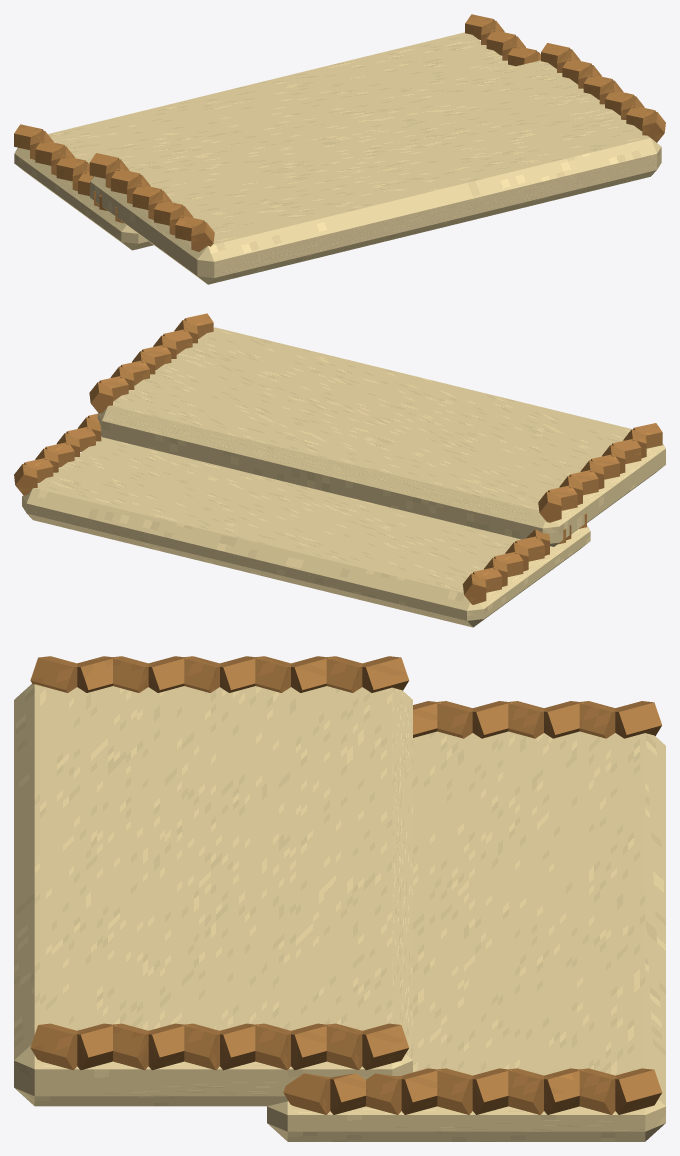
The model's file is lasagne_raw.glb.
3 renders of one model, top to bottom at view 1: azimuth 30°, elevation 25°; view 2: azimuth 150°, elevation 25°; view 3: azimuth 270°, elevation 25°, orthographic. The views are drawn at different scales.
Parts seen in each view (by area): view 1: block_flat pastry or pasta sheet (×2), block_crimped pasta border 0 (×4), block_crimped pasta border 2 (×4), block_crimped pasta border 4 (×3), block_crimped pasta border 9 (×2), block_crimped pasta border 8 (×2), block_crimped pasta border 6 (×2); view 2: block_flat pastry or pasta sheet (×2), block_crimped pasta border 0 (×4); view 3: block_flat pastry or pasta sheet (×2), block_crimped pasta border 0 (×4), block_crimped pasta border 1 (×4), block_crimped pasta border 4 (×4), block_crimped pasta border 3 (×4), block_crimped pasta border 2 (×4), block_crimped pasta border 5 (×4), block_crimped pasta border 6 (×4), block_crimped pasta border 9 (×3), block_crimped pasta border 7 (×3), block_crimped pasta border 8 (×3).
Boxes of the visible parts, bbox=[...] form: block_flat pastry or pasta sheet (×2): bbox=[14, 32, 661, 284]; block_crimped pasta border 0 (×4): bbox=[14, 14, 570, 178]; block_crimped pasta border 2 (×4): bbox=[35, 30, 591, 194]; block_crimped pasta border 4 (×3): bbox=[56, 74, 613, 209]; block_crimped pasta border 9 (×2): bbox=[191, 112, 665, 251]; block_crimped pasta border 8 (×2): bbox=[175, 105, 655, 241]; block_crimped pasta border 6 (×2): bbox=[154, 90, 634, 225]; block_flat pastry or pasta sheet (×2): bbox=[22, 327, 665, 627]; block_crimped pasta border 0 (×4): bbox=[14, 382, 561, 604]; block_flat pastry or pasta sheet (×2): bbox=[14, 683, 665, 1141]; block_crimped pasta border 0 (×4): bbox=[362, 656, 662, 1114]; block_crimped pasta border 1 (×4): bbox=[323, 656, 615, 1114]; block_crimped pasta border 4 (×4): bbox=[220, 656, 512, 1114]; block_crimped pasta border 3 (×4): bbox=[251, 656, 543, 1114]; block_crimped pasta border 2 (×4): bbox=[291, 656, 583, 1114]; block_crimped pasta border 5 (×4): bbox=[180, 656, 472, 1114]; block_crimped pasta border 6 (×4): bbox=[148, 656, 440, 1114]; block_crimped pasta border 9 (×3): bbox=[30, 656, 330, 1114]; block_crimped pasta border 7 (×3): bbox=[109, 656, 401, 1114]; block_crimped pasta border 8 (×3): bbox=[77, 656, 365, 1114].
Size of the model in its own units: 0.0968 by 0.0141 by 0.0683.
1 material, 1 textured.
